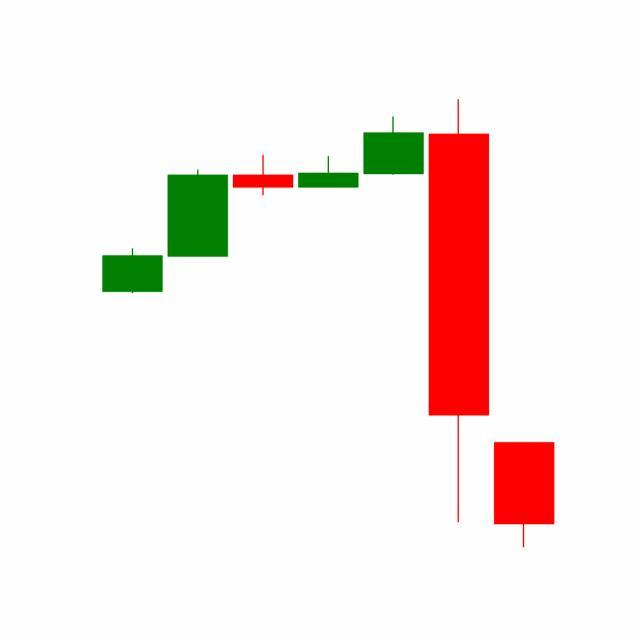Hikkake Pattern: (165, 100, 492, 529)
